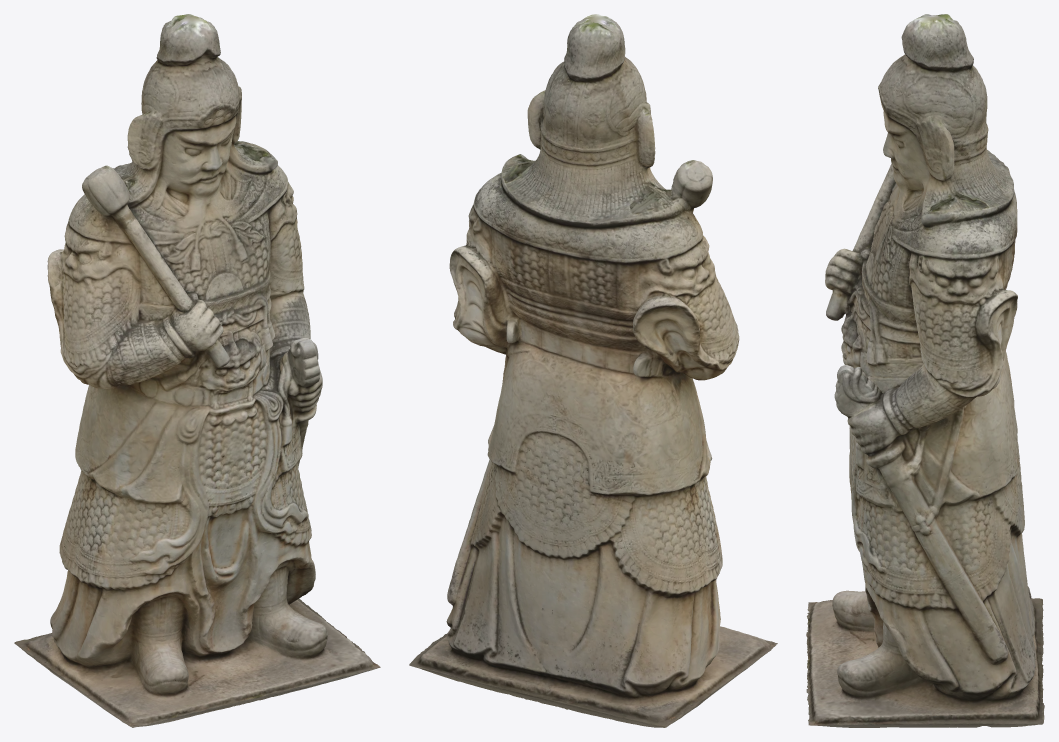
The model's file is sf-statues-of-generals-db4bdb.glb.
The picture shows the model from 3 angles, left to right: view 1: azimuth 30°, elevation 25°; view 2: azimuth 150°, elevation 25°; view 3: azimuth 270°, elevation 25°; orthographic projection.
Visible parts, largest first — view 1: Object_3; view 2: Object_3; view 3: Object_3.
Boxes of the visible parts, left/top/right/bottom form: Object_3: left=14, top=14, right=380, bottom=727; Object_3: left=409, top=14, right=777, bottom=727; Object_3: left=806, top=14, right=1044, bottom=727.
Size of the model in its own units: 10.3 by 24.22 by 8.03.
Materials: 1 (1 with a texture image).
